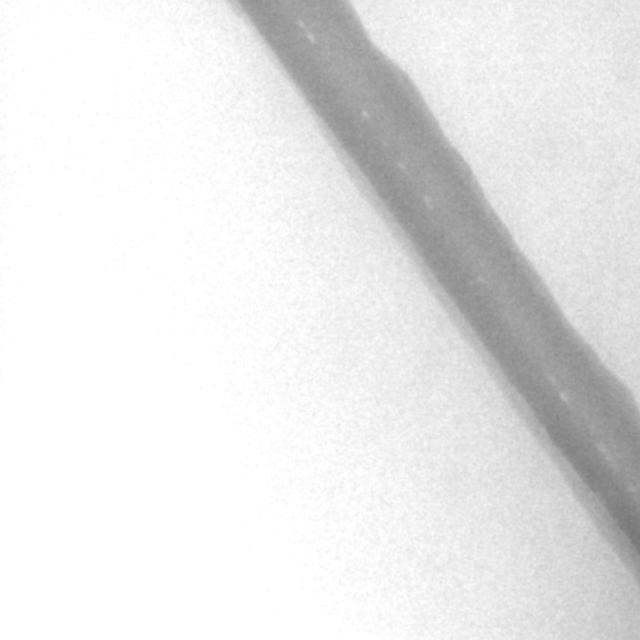air hole: (557, 389, 570, 404), (422, 192, 434, 208), (359, 106, 370, 121), (306, 31, 316, 43), (297, 18, 305, 29)
